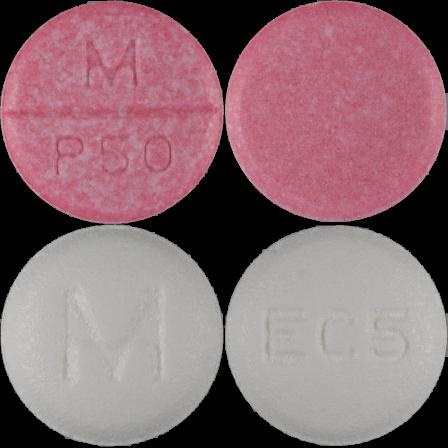0378-3850: (0, 0, 224, 224)
